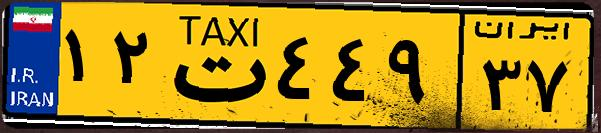1: (57, 26, 110, 100)
2: (110, 28, 158, 98)
3: (475, 38, 525, 113)
4: (270, 28, 330, 110), (330, 28, 385, 110)
7: (525, 38, 570, 115)
9: (385, 28, 445, 110)
ت: (158, 12, 270, 120)
